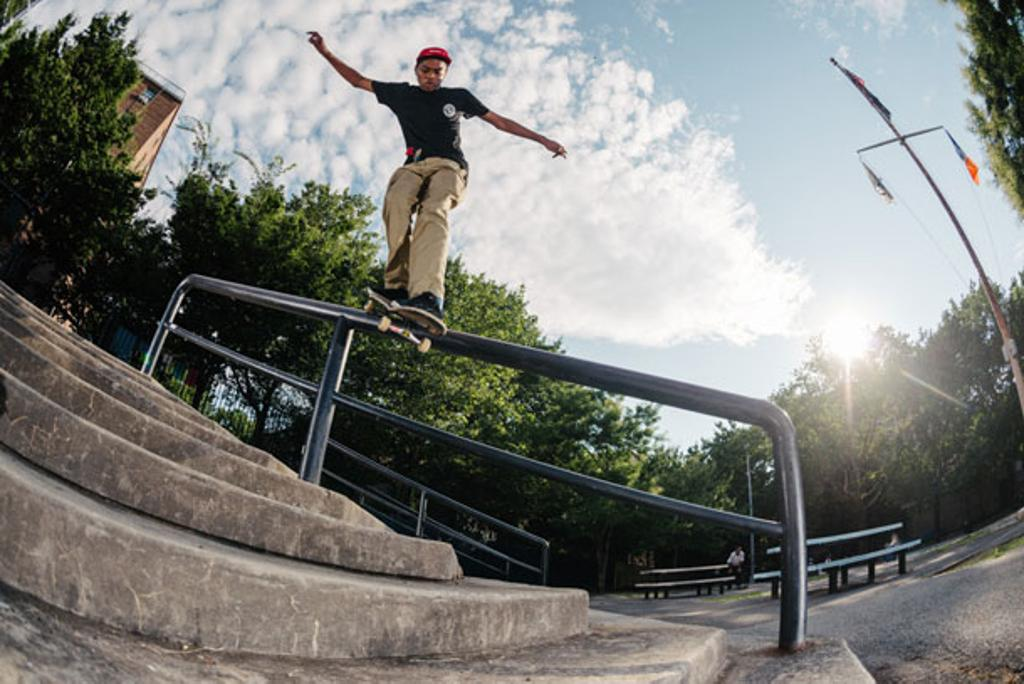face: (417, 60, 446, 89)
